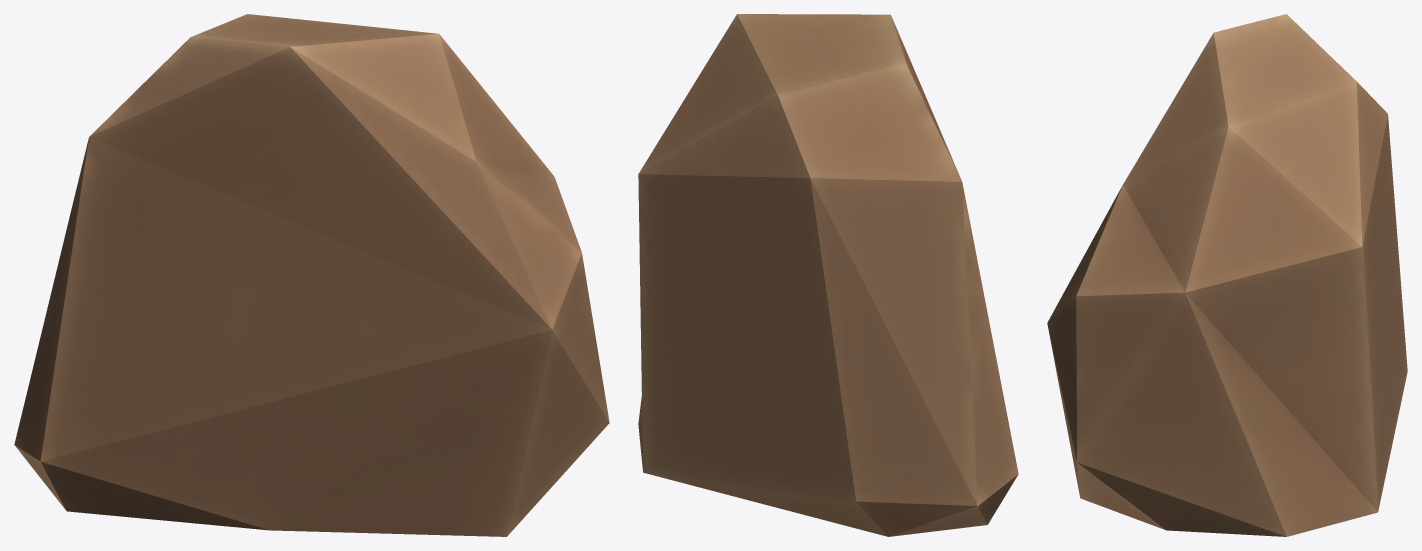
Rendered from Rock_50.fbx.
3 renders of one model, left to right at view 1: azimuth 30°, elevation 25°; view 2: azimuth 150°, elevation 25°; view 3: azimuth 270°, elevation 25°, orthographic. The views are drawn at different scales.
Visible parts, largest first — view 1: Rock_50; view 2: Rock_50; view 3: Rock_50.
Part boxes in pixels (x1,y1,x2,y2): Rock_50: [14, 14, 609, 536]; Rock_50: [638, 14, 1018, 536]; Rock_50: [1047, 14, 1407, 536].
Size of the model in its own units: 26.3 by 21.38 by 26.61.
1 material, 1 textured.
